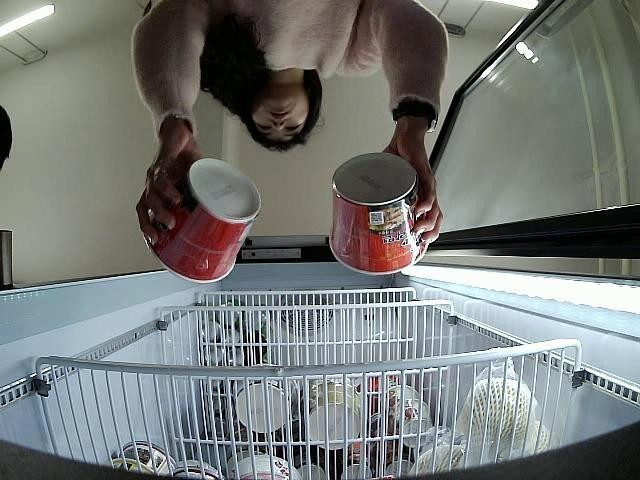01_ShinRamen_L: (151, 158, 263, 284), (328, 152, 429, 274)
